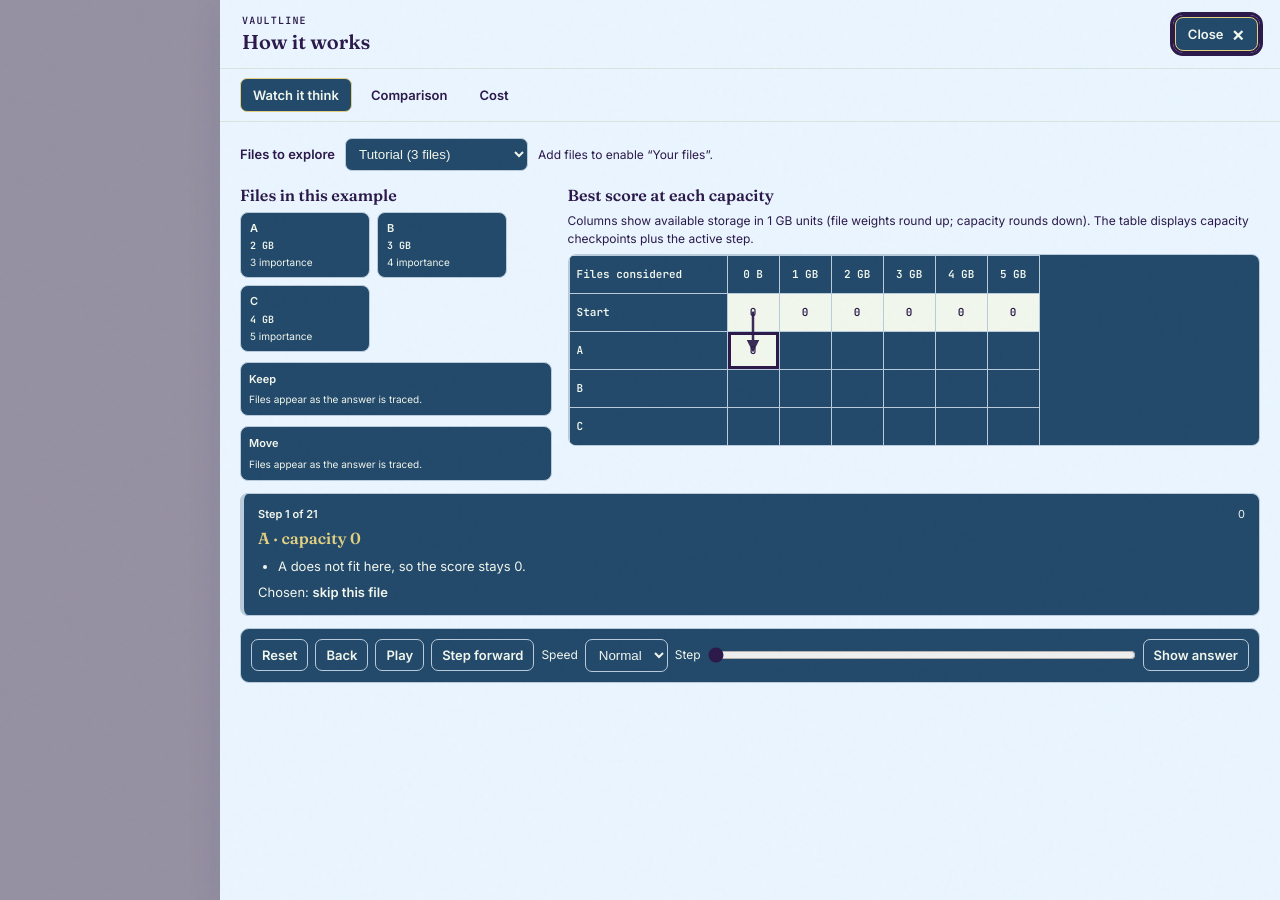
Test: Algorithm drawer playback › reveals DP cells as the walkthrough advances instead of showing the completed table
Check: the cell named "Row 1, capacity 0 B, score 0" reads "0", box top-left (750, 343), bottom-right (756, 357)
Check: the cell named "Row 1, capacity 1 GB, not computed" is empty, box top-left (779, 331), bottom-right (831, 369)
Click the button "Step forward" at {"x": 483, "y": 655}, box top-left (431, 639), bottom-right (534, 671)
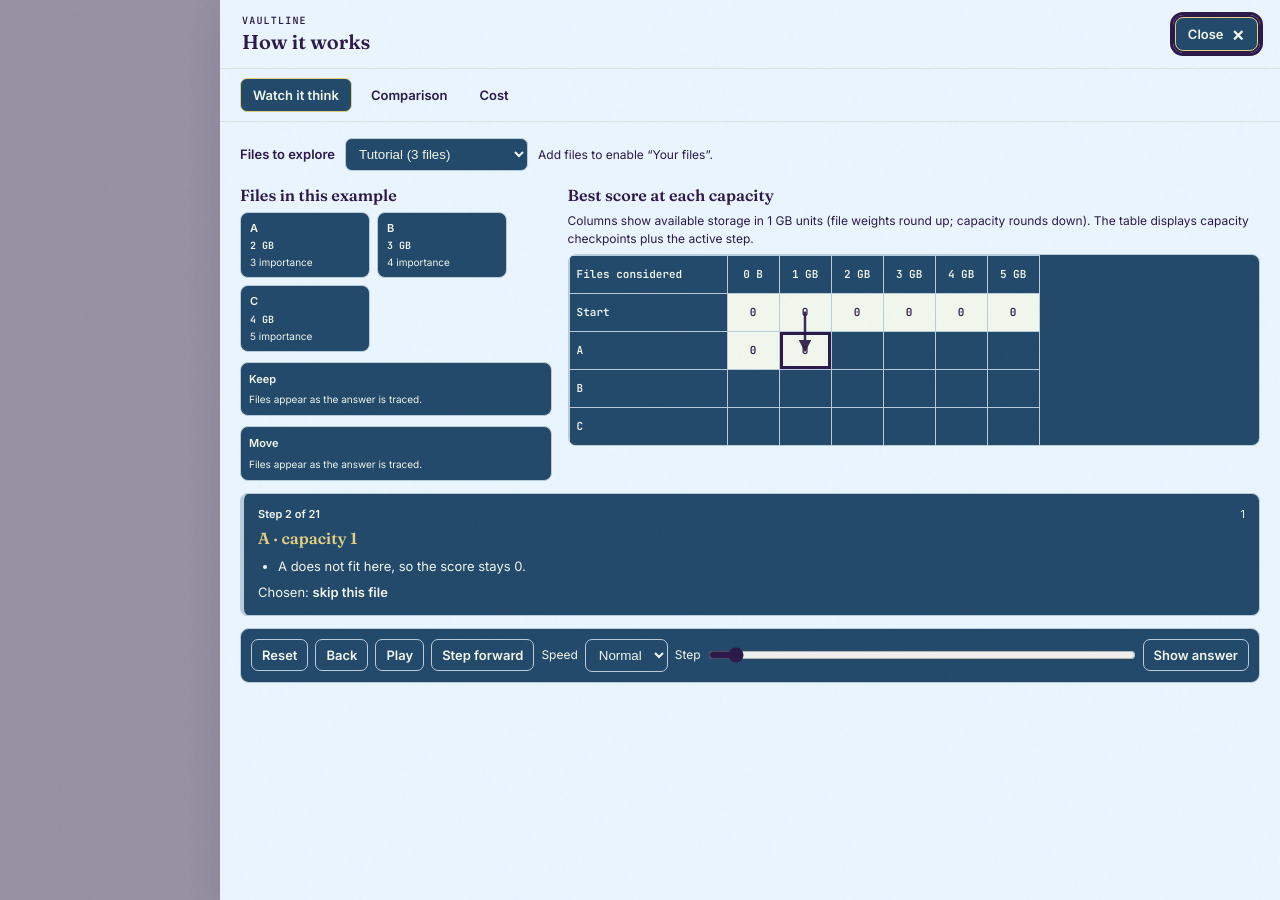
Check: the cell named "Row 2, capacity 0 B, not computed" is empty, box top-left (727, 369), bottom-right (779, 407)
Check: the cell named "Row 1, capacity 1 GB, score 0" reads "0", box top-left (802, 343), bottom-right (808, 357)
